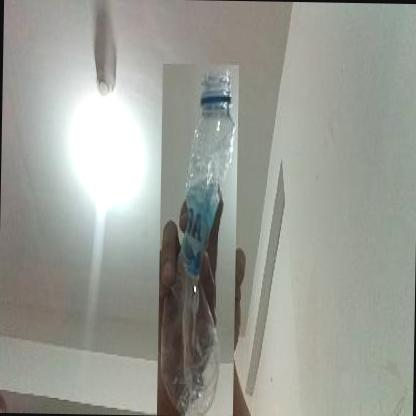plastic_bottles: (157, 63, 238, 416)
